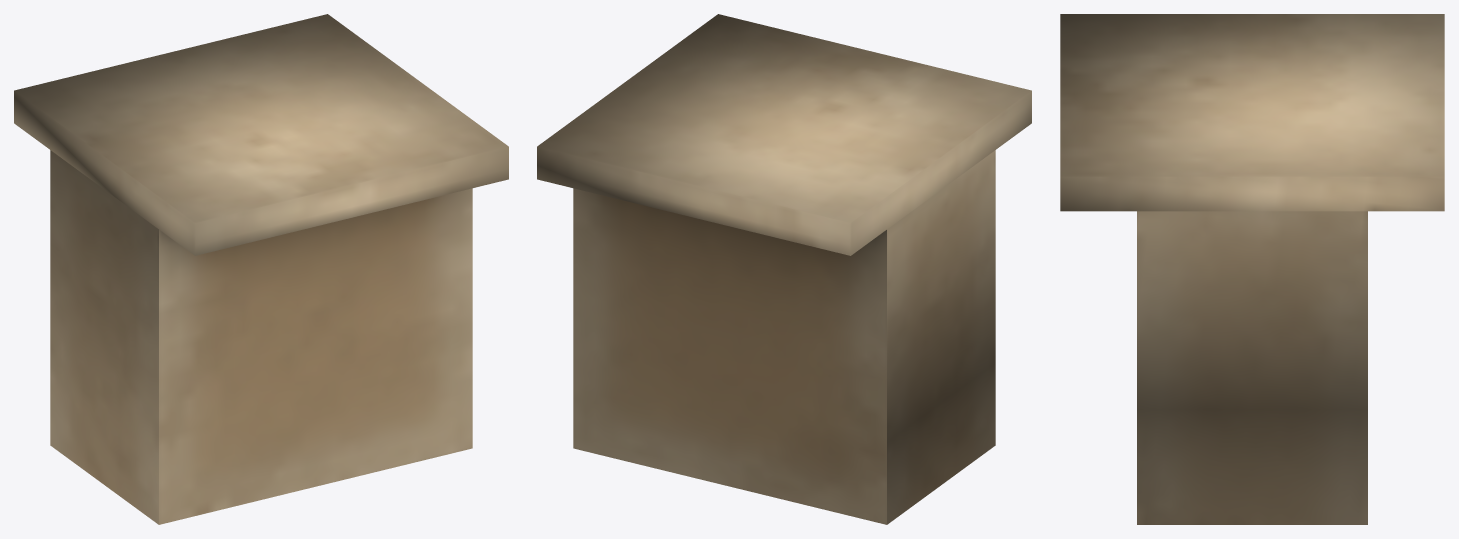
Rendered from Kitchen Table1_2.fbx.
The picture shows the model from 3 angles, left to right: view 1: azimuth 30°, elevation 25°; view 2: azimuth 150°, elevation 25°; view 3: azimuth 270°, elevation 25°; orthographic projection. The views are drawn at different scales.
Visible parts, largest first — view 1: Kitchen Table1_2; view 2: Kitchen Table1_2; view 3: Kitchen Table1_2.
Part boxes in pixels (bbox=[...]): Kitchen Table1_2: bbox=[14, 14, 508, 524]; Kitchen Table1_2: bbox=[537, 14, 1031, 524]; Kitchen Table1_2: bbox=[1060, 14, 1444, 524].
Bounding box in the file's own units: 1 × 1 × 1.
Materials: 1 (1 with a texture image).
